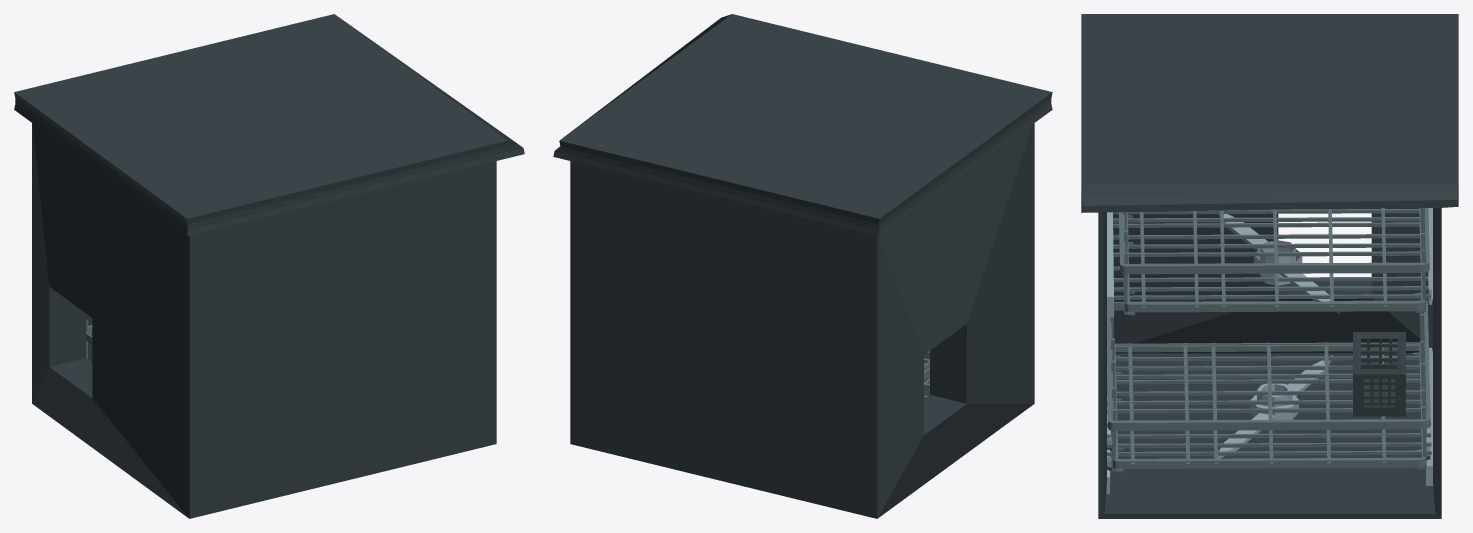
File: bullasikmakinesi.fbx
The picture shows the model from 3 angles, left to right: view 1: azimuth 30°, elevation 25°; view 2: azimuth 150°, elevation 25°; view 3: azimuth 270°, elevation 25°; orthographic projection. The views are drawn at different scales.
Parts seen in each view (by area): view 1: bulasikmakinesi; view 2: bulasikmakinesi; view 3: bulasikmakinesi, Cube.026, Cube.069, Cube.015, Plane.001, Cylinder.002, Cube.016, Cube.014.
Part boxes in pixels (x1,y1,x2,y2): bulasikmakinesi: (14,14,524,518); bulasikmakinesi: (553,14,1052,518); bulasikmakinesi: (1081,14,1458,518); Cube.026: (1107,292,1431,472); Cube.069: (1113,208,1430,315); Cube.015: (1353,332,1405,416); Plane.001: (1218,355,1332,458); Cylinder.002: (1218,214,1339,313); Cube.016: (1107,212,1113,317); Cube.014: (1426,347,1433,485).
Bounding box in the file's own units: 478 × 413 × 419.
Materials: 1 (1 with a texture image).
